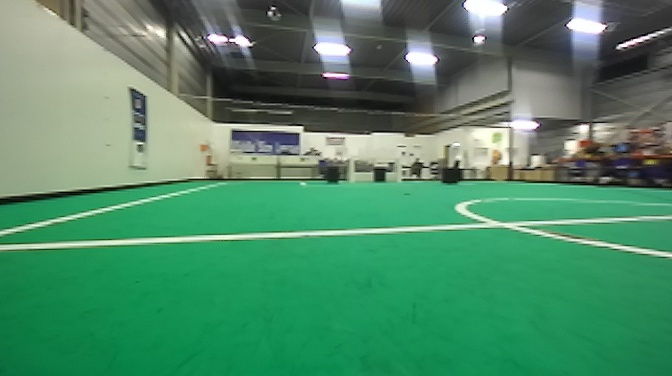goalpost: (392, 152, 405, 184), (345, 156, 355, 180)
